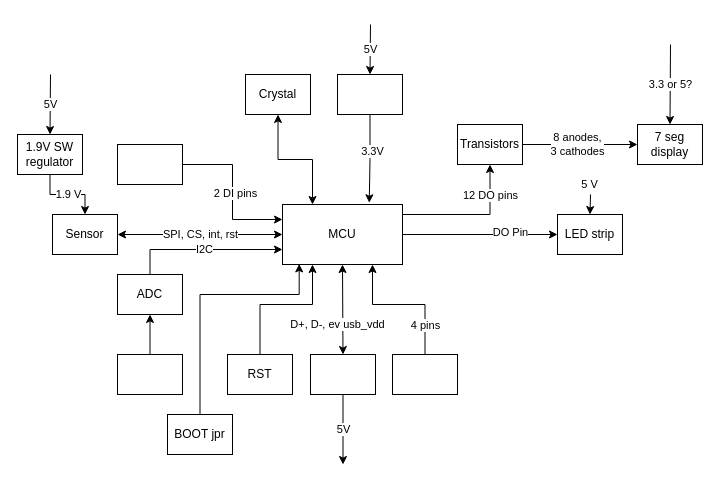
Image size: 720x490. Some labels were removed from this diagram. Each missing label, with the centre of its shape:
2 Buttons: the point at 149,164
3.3V SW regulator: the point at 369,94
Potent strip: the point at 149,374
SWD port: the point at 425,374
USB: the point at 343,374
